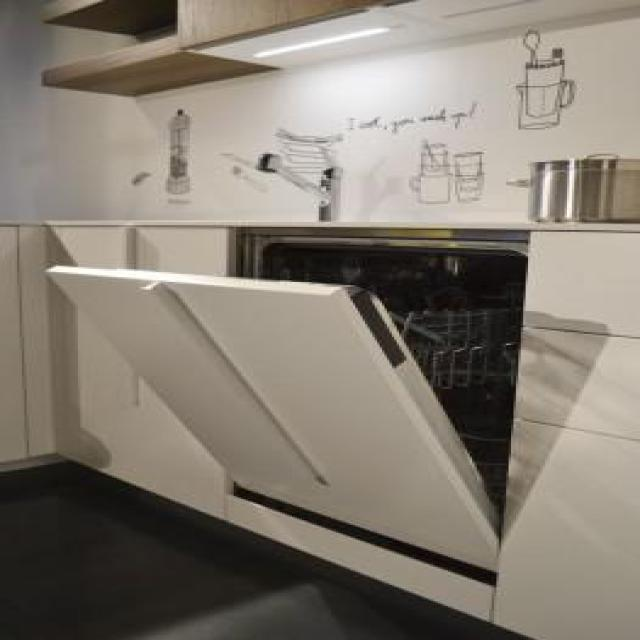dishwasher: (41, 227, 528, 577)
